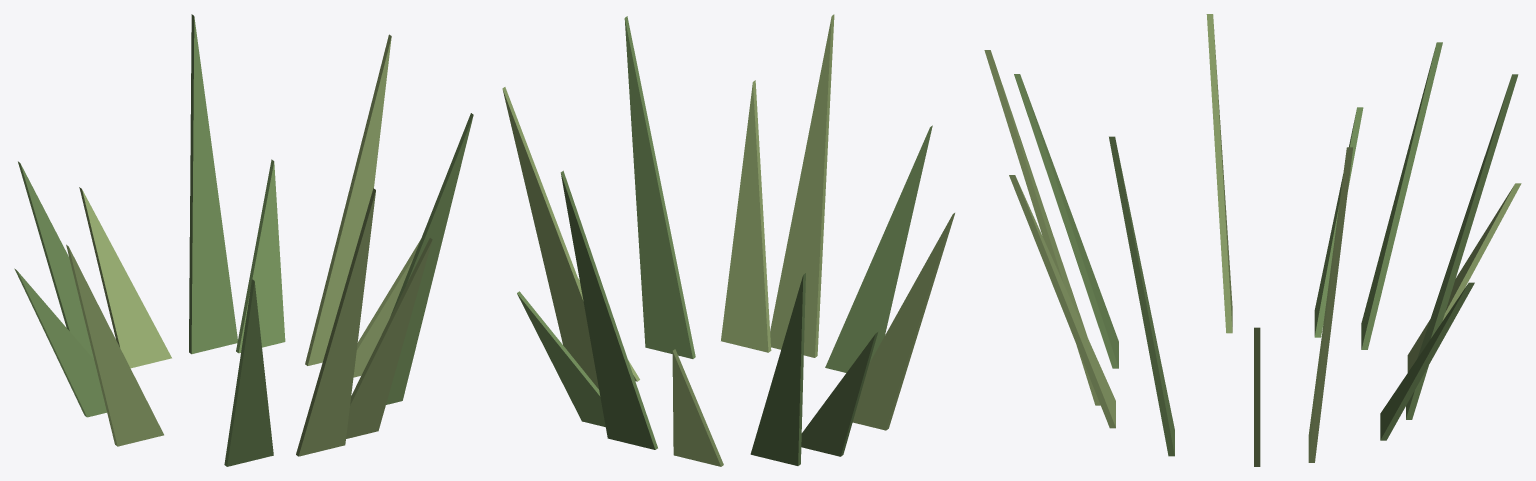
Rendered from grass-tufts.glb.
The picture shows the model from 3 angles, left to right: view 1: azimuth 30°, elevation 25°; view 2: azimuth 150°, elevation 25°; view 3: azimuth 270°, elevation 25°; orthographic projection. The views are drawn at different scales.
Visible parts, largest first — view 1: Mesh_grass-tufts_leafLight, Mesh_grass-tufts_leaf; view 2: Mesh_grass-tufts_leaf, Mesh_grass-tufts_leafLight; view 3: Mesh_grass-tufts_leaf, Mesh_grass-tufts_leafLight.
Boxes of the visible parts, x1=… form: Mesh_grass-tufts_leafLight: x1=66, y1=34, x2=432, y2=456; Mesh_grass-tufts_leaf: x1=14, y1=14, x2=473, y2=466; Mesh_grass-tufts_leaf: x1=517, y1=16, x2=932, y2=465; Mesh_grass-tufts_leafLight: x1=502, y1=14, x2=954, y2=466; Mesh_grass-tufts_leaf: x1=1014, y1=42, x2=1518, y2=456; Mesh_grass-tufts_leafLight: x1=984, y1=14, x2=1521, y2=466.
Size of the model in its own units: 0.3374 by 0.24 by 0.3375.
